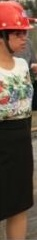boots: (32, 154, 37, 166), (33, 153, 37, 163)
hard-hat: (0, 0, 35, 30)
ppe-suit: (18, 38, 37, 203)
